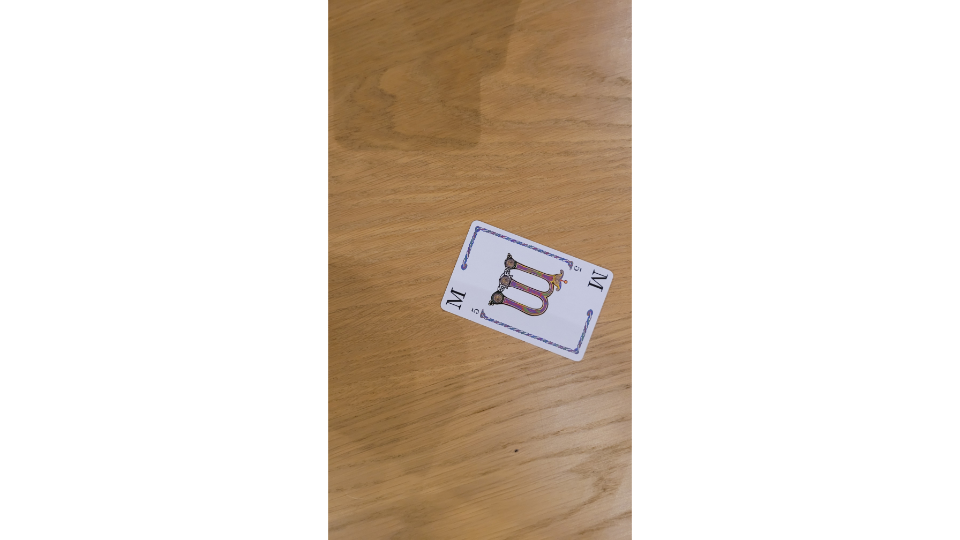M: (438, 219, 616, 362)
